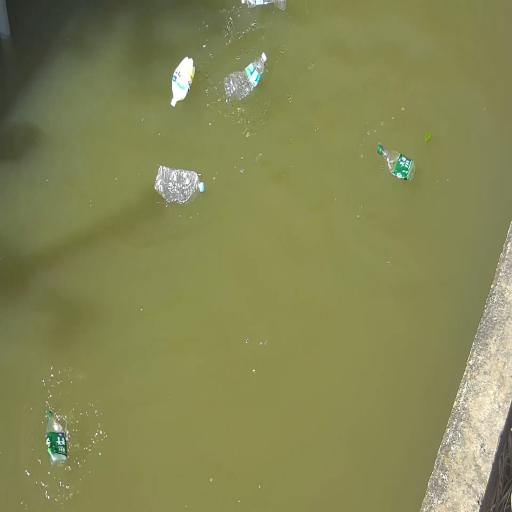plastic: (155, 164, 204, 207), (224, 53, 266, 101), (378, 144, 415, 180), (171, 57, 195, 107), (46, 411, 67, 466)
